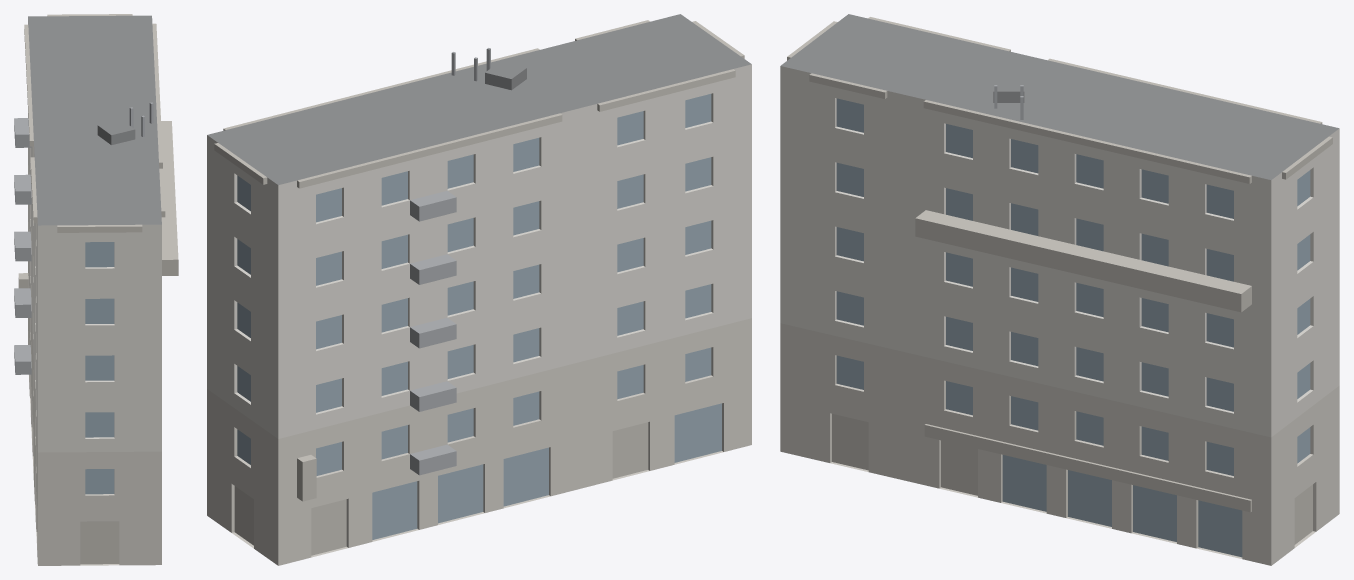
File: doitt-835659__lod_0.glb
3 views of the same model, side by side, from view 1: azimuth 30°, elevation 25°; view 2: azimuth 150°, elevation 25°; view 3: azimuth 270°, elevation 25° (orthographic). The views are drawn at different scales.
Bounding box in the file's own units: 21.85 × 24.49 × 30.4.
